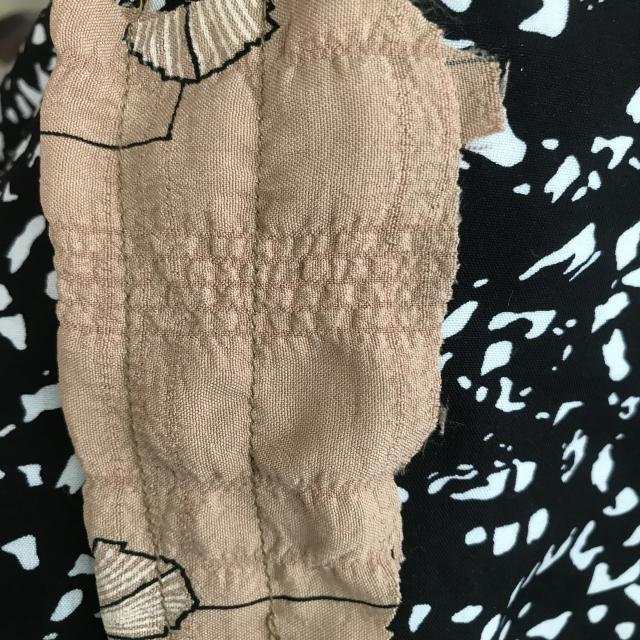good: (248, 514, 289, 598), (242, 386, 266, 465)
